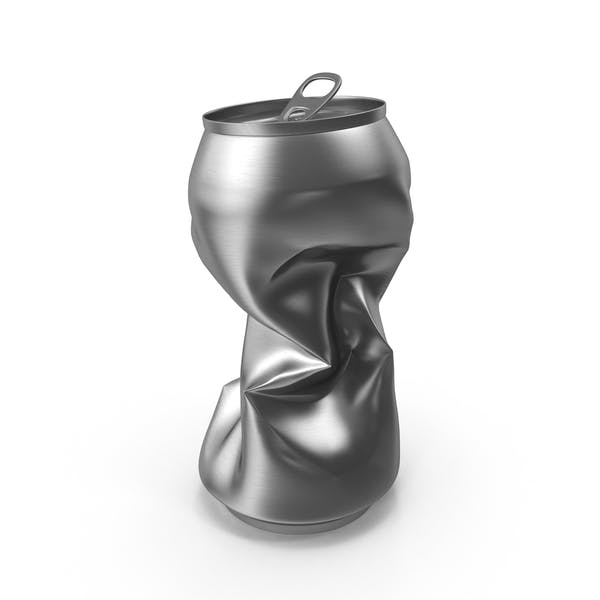can: (187, 71, 420, 535)
